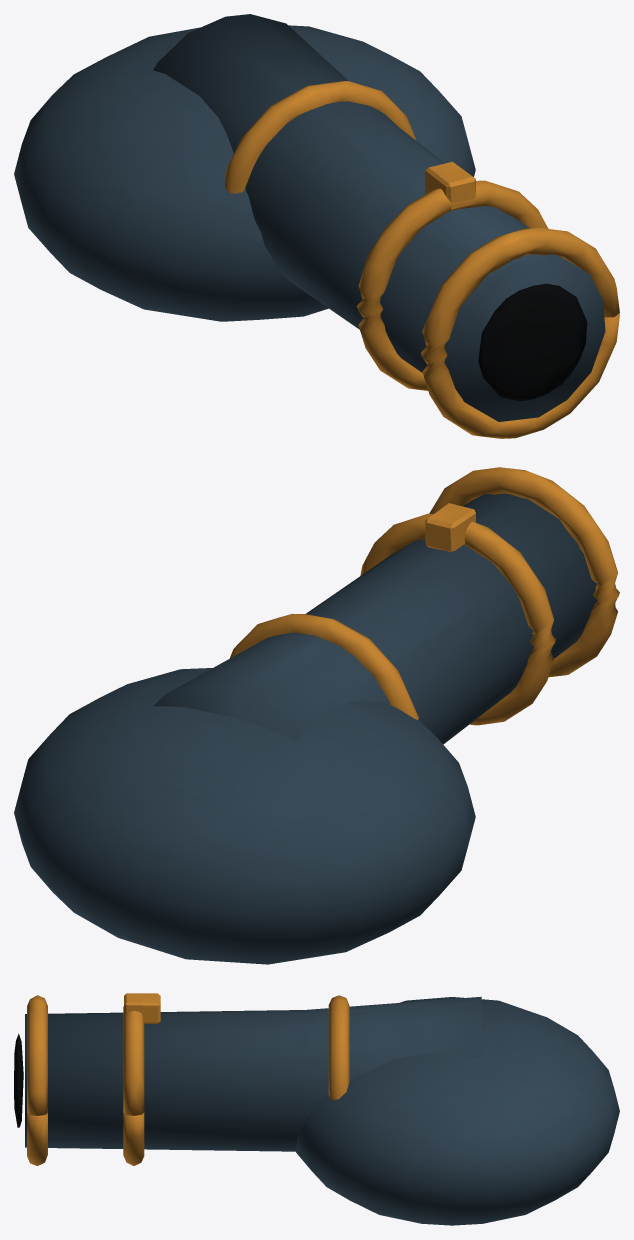
File: SM_guard_cannon_LOD1.fbx
3 renders of one model, top to bottom at view 1: azimuth 30°, elevation 25°; view 2: azimuth 150°, elevation 25°; view 3: azimuth 270°, elevation 25°, orthographic. The views are drawn at different scales.
Visible parts, largest first — view 1: SM_guard_cannon_LOD1; view 2: SM_guard_cannon_LOD1; view 3: SM_guard_cannon_LOD1.
Boxes of the visible parts, bbox=[...] form: SM_guard_cannon_LOD1: bbox=[14, 14, 619, 438]; SM_guard_cannon_LOD1: bbox=[14, 467, 619, 964]; SM_guard_cannon_LOD1: bbox=[14, 993, 619, 1225].
Bounding box in the file's own units: 0.84 × 1.45 × 0.5289.
